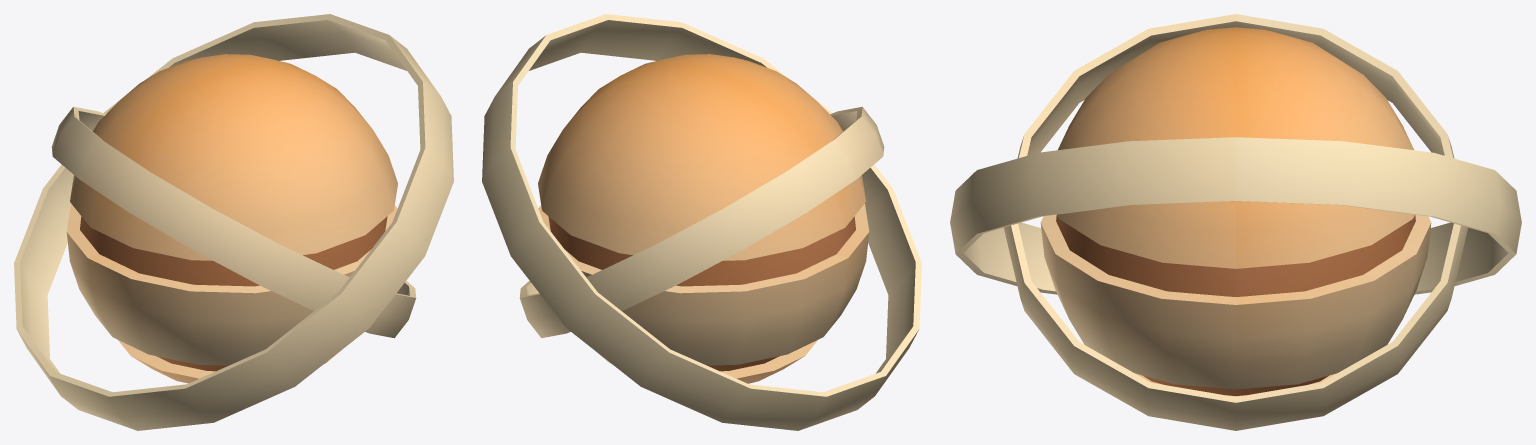
File: Boss 1.fbx
3 views of the same model, side by side, from view 1: azimuth 30°, elevation 25°; view 2: azimuth 150°, elevation 25°; view 3: azimuth 270°, elevation 25° (orthographic). The views are drawn at different scales.
Visible parts, largest first — view 1: Sphere, Sphere.002, Sphere.001; view 2: Sphere, Sphere.002, Sphere.001; view 3: Sphere, Sphere.002, Sphere.001.
Part boxes in pixels (x1,y1,x2,y2): Sphere: (66,54,397,383); Sphere.002: (14,14,453,430); Sphere.001: (51,106,416,338); Sphere: (538,54,869,383); Sphere.002: (482,14,921,430); Sphere.001: (519,106,884,338); Sphere: (1040,27,1431,396); Sphere.002: (950,137,1521,294); Sphere.001: (1004,14,1467,430).
Size of the model in its own units: 252 by 200 by 293.
